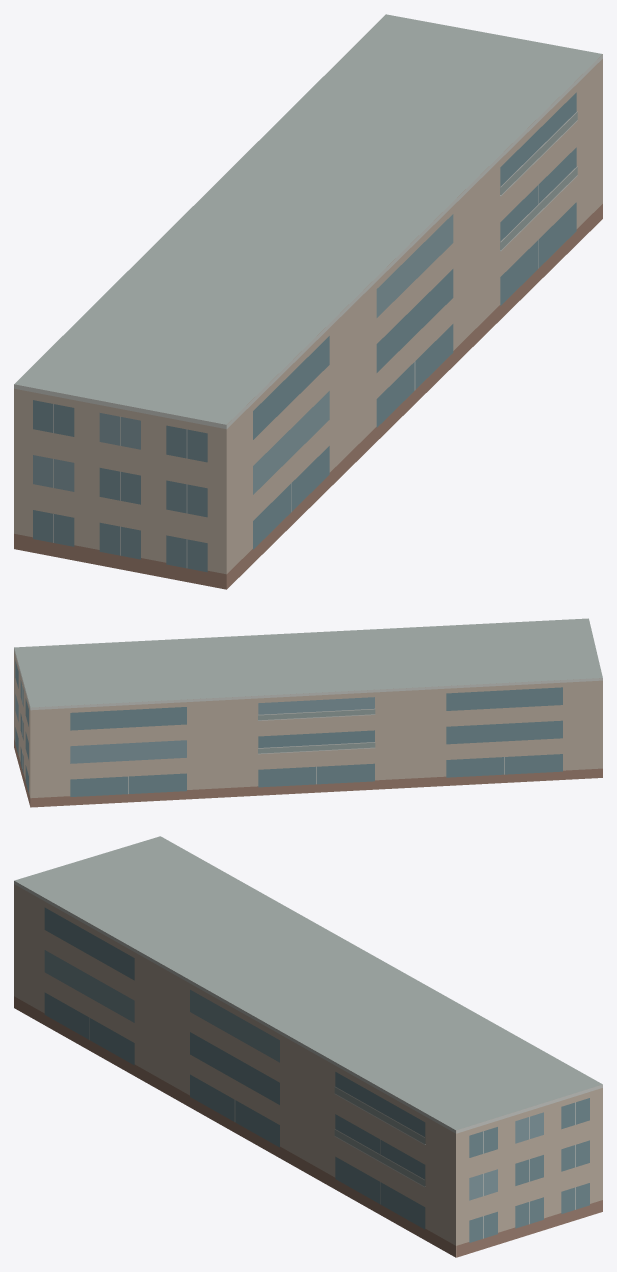
Rendered from survey-upis-32756103.glb.
3 views of the same model, one above another, from view 1: azimuth 30°, elevation 25°; view 2: azimuth 150°, elevation 25°; view 3: azimuth 270°, elevation 25° (orthographic). The views are drawn at different scales.
Visible parts, largest first — view 1: survey-upis-32756103.tmp; view 2: survey-upis-32756103.tmp; view 3: survey-upis-32756103.tmp.
Boxes of the visible parts, bbox=[...] form: survey-upis-32756103.tmp: bbox=[14, 14, 602, 589]; survey-upis-32756103.tmp: bbox=[14, 618, 602, 807]; survey-upis-32756103.tmp: bbox=[14, 836, 602, 1257].
Bounding box in the file's own units: 45.34 × 9.15 × 38.34.
